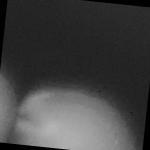colony: (3, 72, 149, 150), (0, 51, 27, 144)
